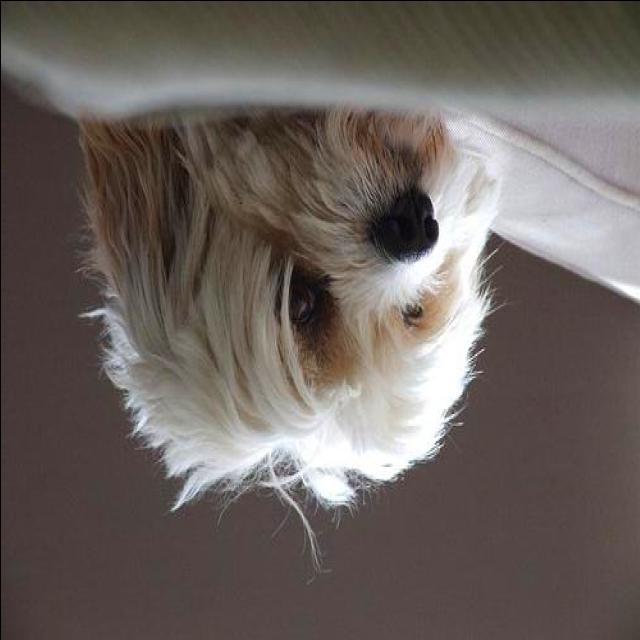maltese_dog: (65, 102, 503, 522)
